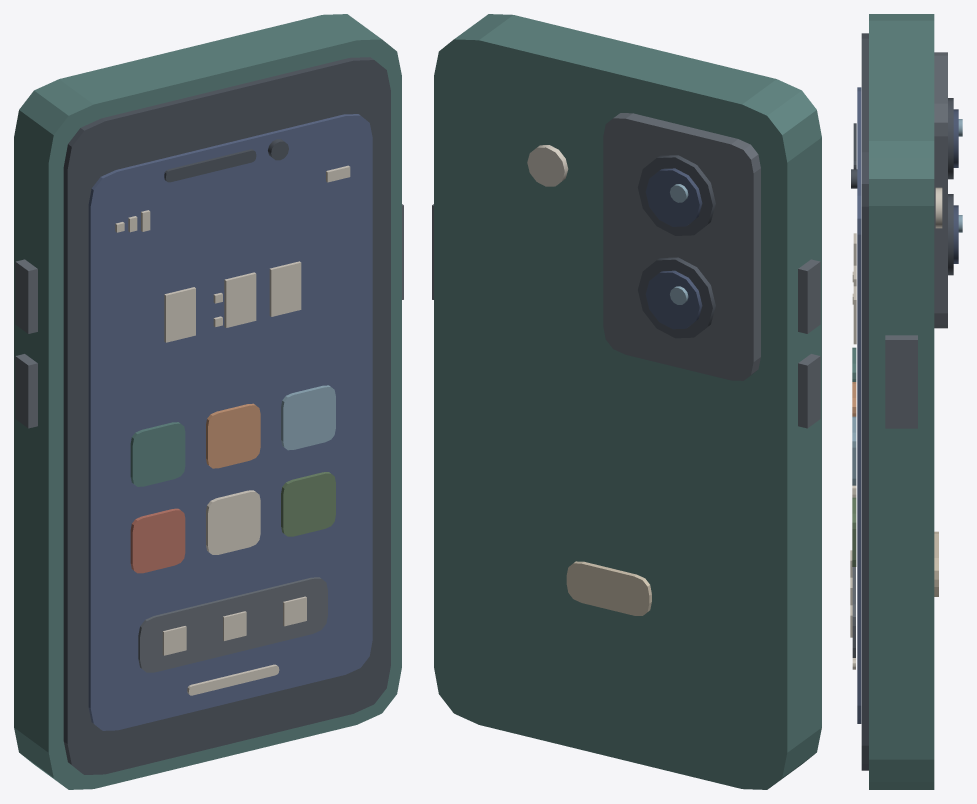
Rendered from komachi-phone.glb.
The picture shows the model from 3 angles, left to right: view 1: azimuth 30°, elevation 25°; view 2: azimuth 150°, elevation 25°; view 3: azimuth 270°, elevation 25°; orthographic projection. The views are drawn at different scales.
Visible parts, largest first — view 1: Phone_Screen, Phone_Case_And_Cameras, Phone_Screen_Icons; view 2: Phone_Case_And_Cameras; view 3: Phone_Case_And_Cameras, Phone_Screen, Phone_Screen_Icons.
Boxes of the visible parts, left/top/right/bottom form: Phone_Screen: left=88, top=114, right=372, bottom=730; Phone_Case_And_Cameras: left=14, top=14, right=403, bottom=789; Phone_Screen_Icons: left=115, top=139, right=350, bottom=695; Phone_Case_And_Cameras: left=432, top=14, right=821, bottom=789; Phone_Case_And_Cameras: left=861, top=14, right=962, bottom=789; Phone_Screen: left=857, top=87, right=861, bottom=723; Phone_Screen_Icons: left=850, top=123, right=857, bottom=669.
Size of the model in its own units: 0.0497 by 0.0875 by 0.0138.
